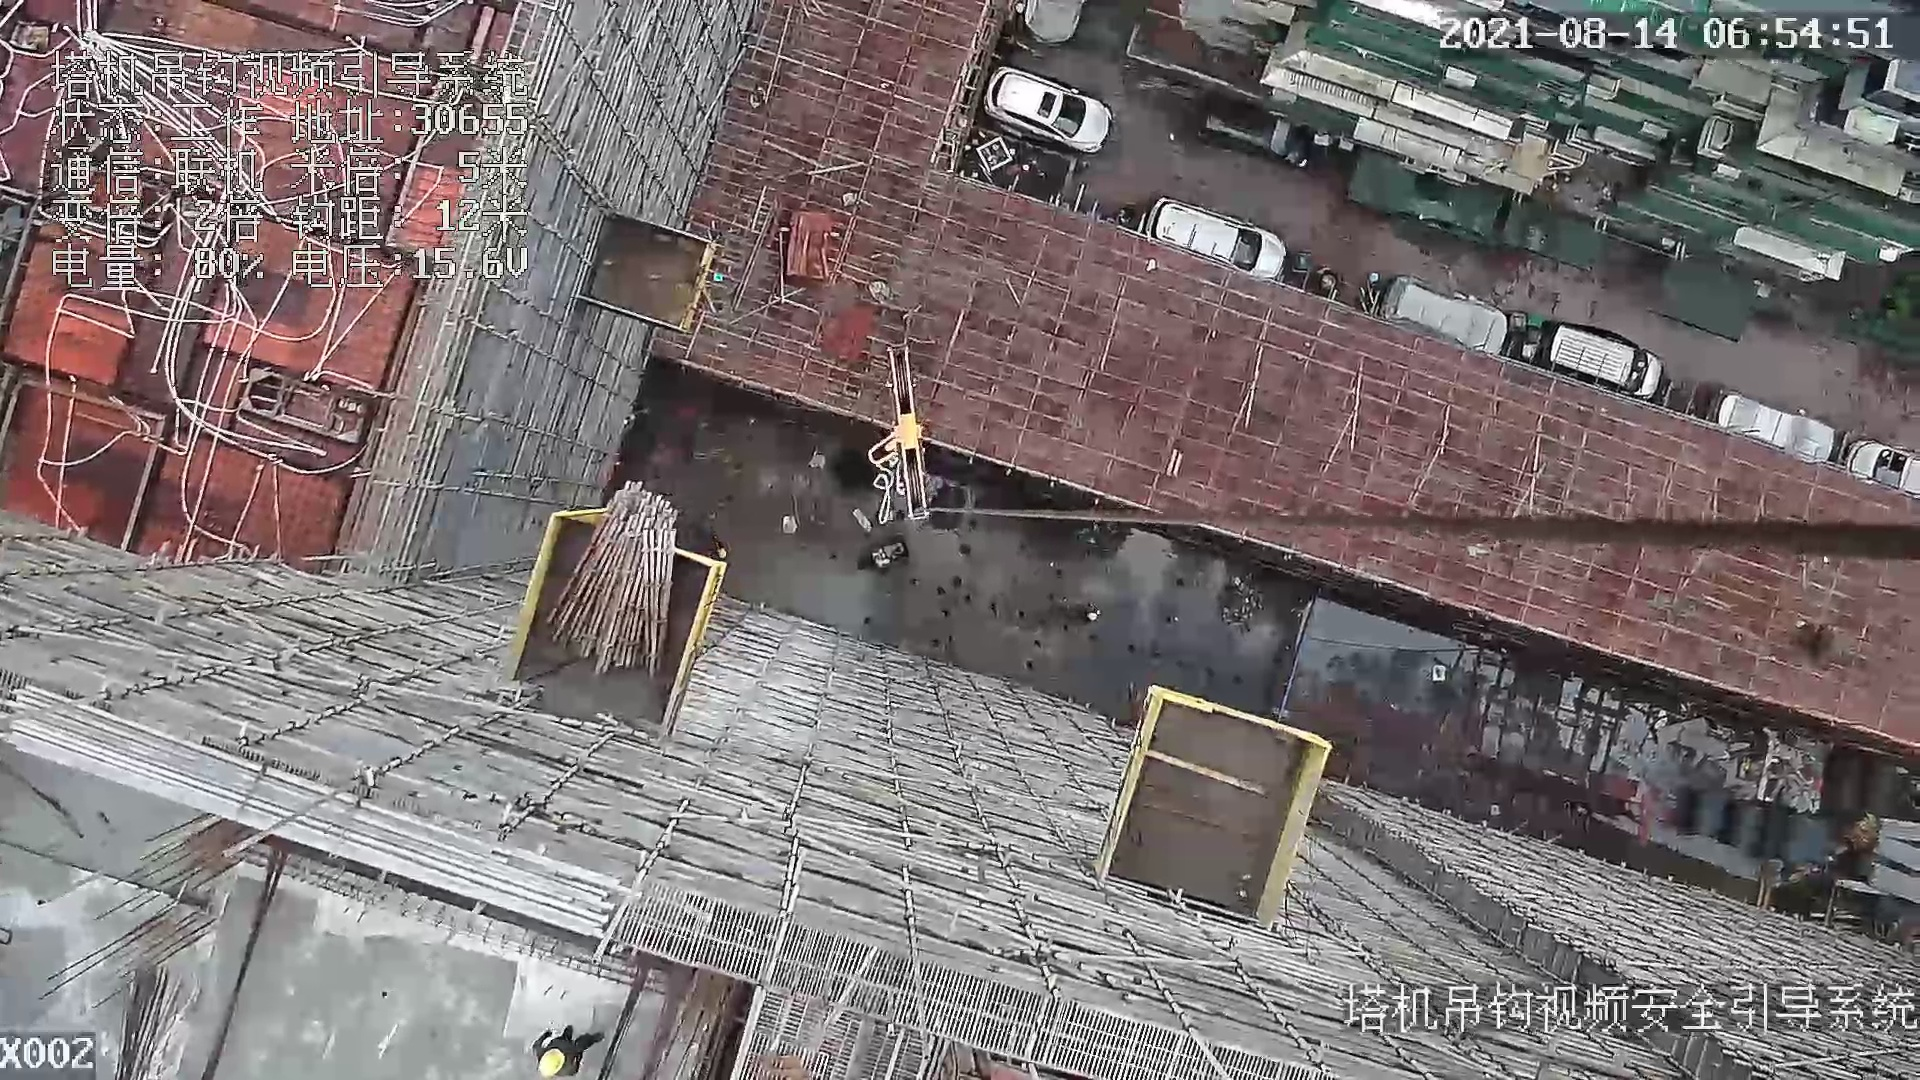helmet: (539, 1048, 565, 1076)
hook: (860, 337, 937, 518)
person: (514, 1019, 624, 1080)
rebar: (4, 685, 616, 942)
scaffold: (546, 477, 675, 679)
